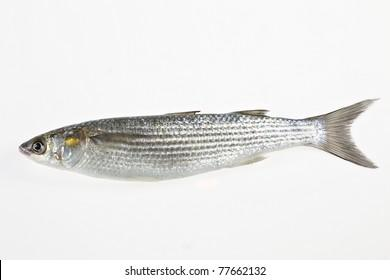Mullet: (19, 107, 377, 185)
